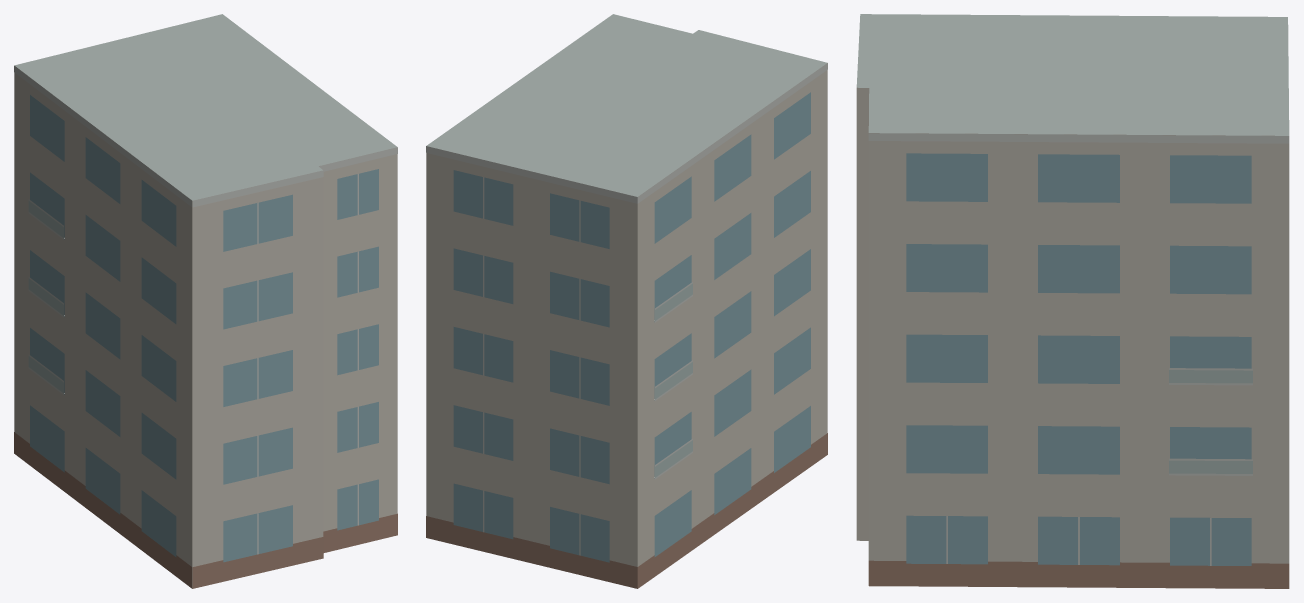
File: survey-upis-32632395.glb
3 views of the same model, side by side, from view 1: azimuth 30°, elevation 25°; view 2: azimuth 150°, elevation 25°; view 3: azimuth 270°, elevation 25° (orthographic). The views are drawn at different scales.
Visible parts, largest first — view 1: survey-upis-32632395.tmp; view 2: survey-upis-32632395.tmp; view 3: survey-upis-32632395.tmp.
Part boxes in pixels (x1=…): survey-upis-32632395.tmp: x1=14, y1=14, x2=397, y2=588; survey-upis-32632395.tmp: x1=426, y1=14, x2=827, y2=588; survey-upis-32632395.tmp: x1=856, y1=14, x2=1289, y2=588.
Size of the model in its own units: 8.11 by 14 by 12.13.
